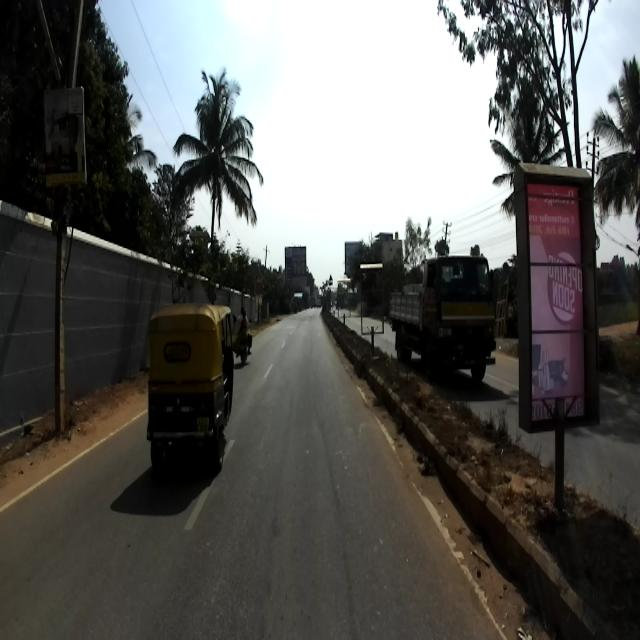auto ahead at: (146, 296, 238, 468)
electric pole ahead at: (32, 4, 92, 457)
